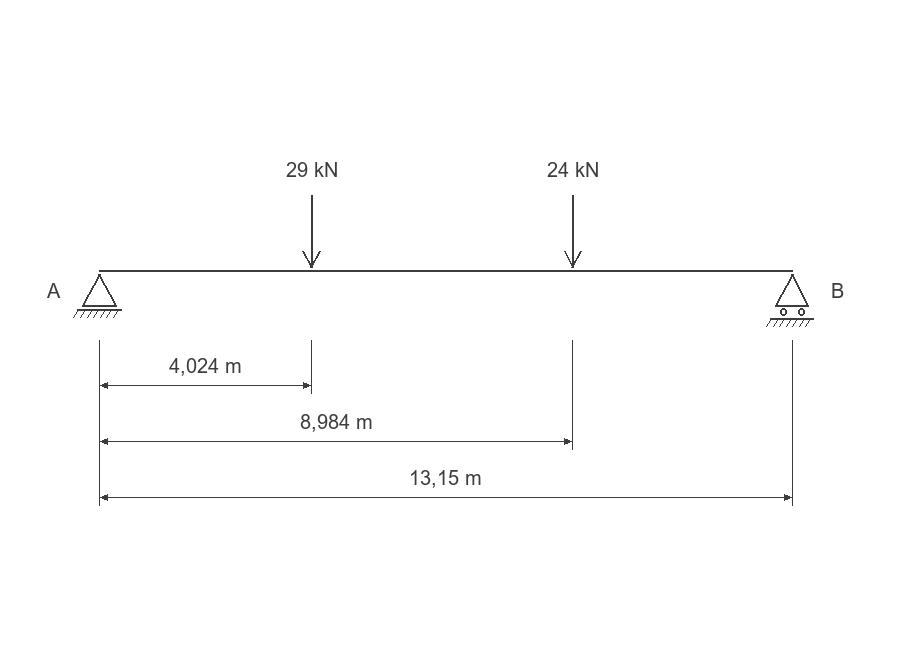pin_support: (73, 274, 122, 318)
point_load: (302, 195, 321, 268), (564, 195, 582, 268)
roller_support: (766, 274, 814, 327)
